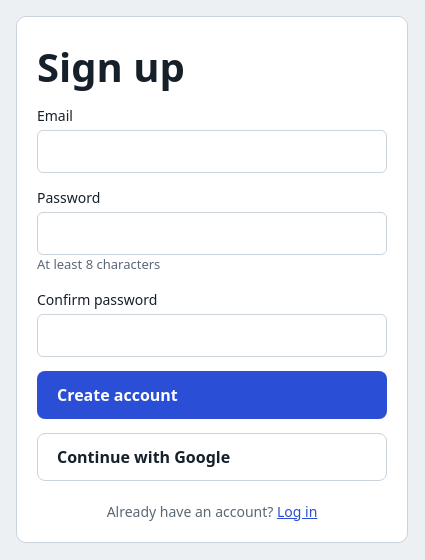
Scenario: SignupPage › shows a strength hint as the password is typed
Type "Str0ng!Password" into the password field labelled "Password At least 8 characters" at point(212, 234), box [37,212,387,255]
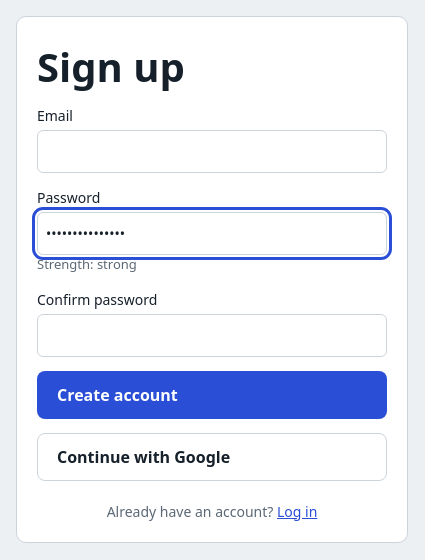
Check: the text "Strength: strong" is shown, box [37,255,137,273]
